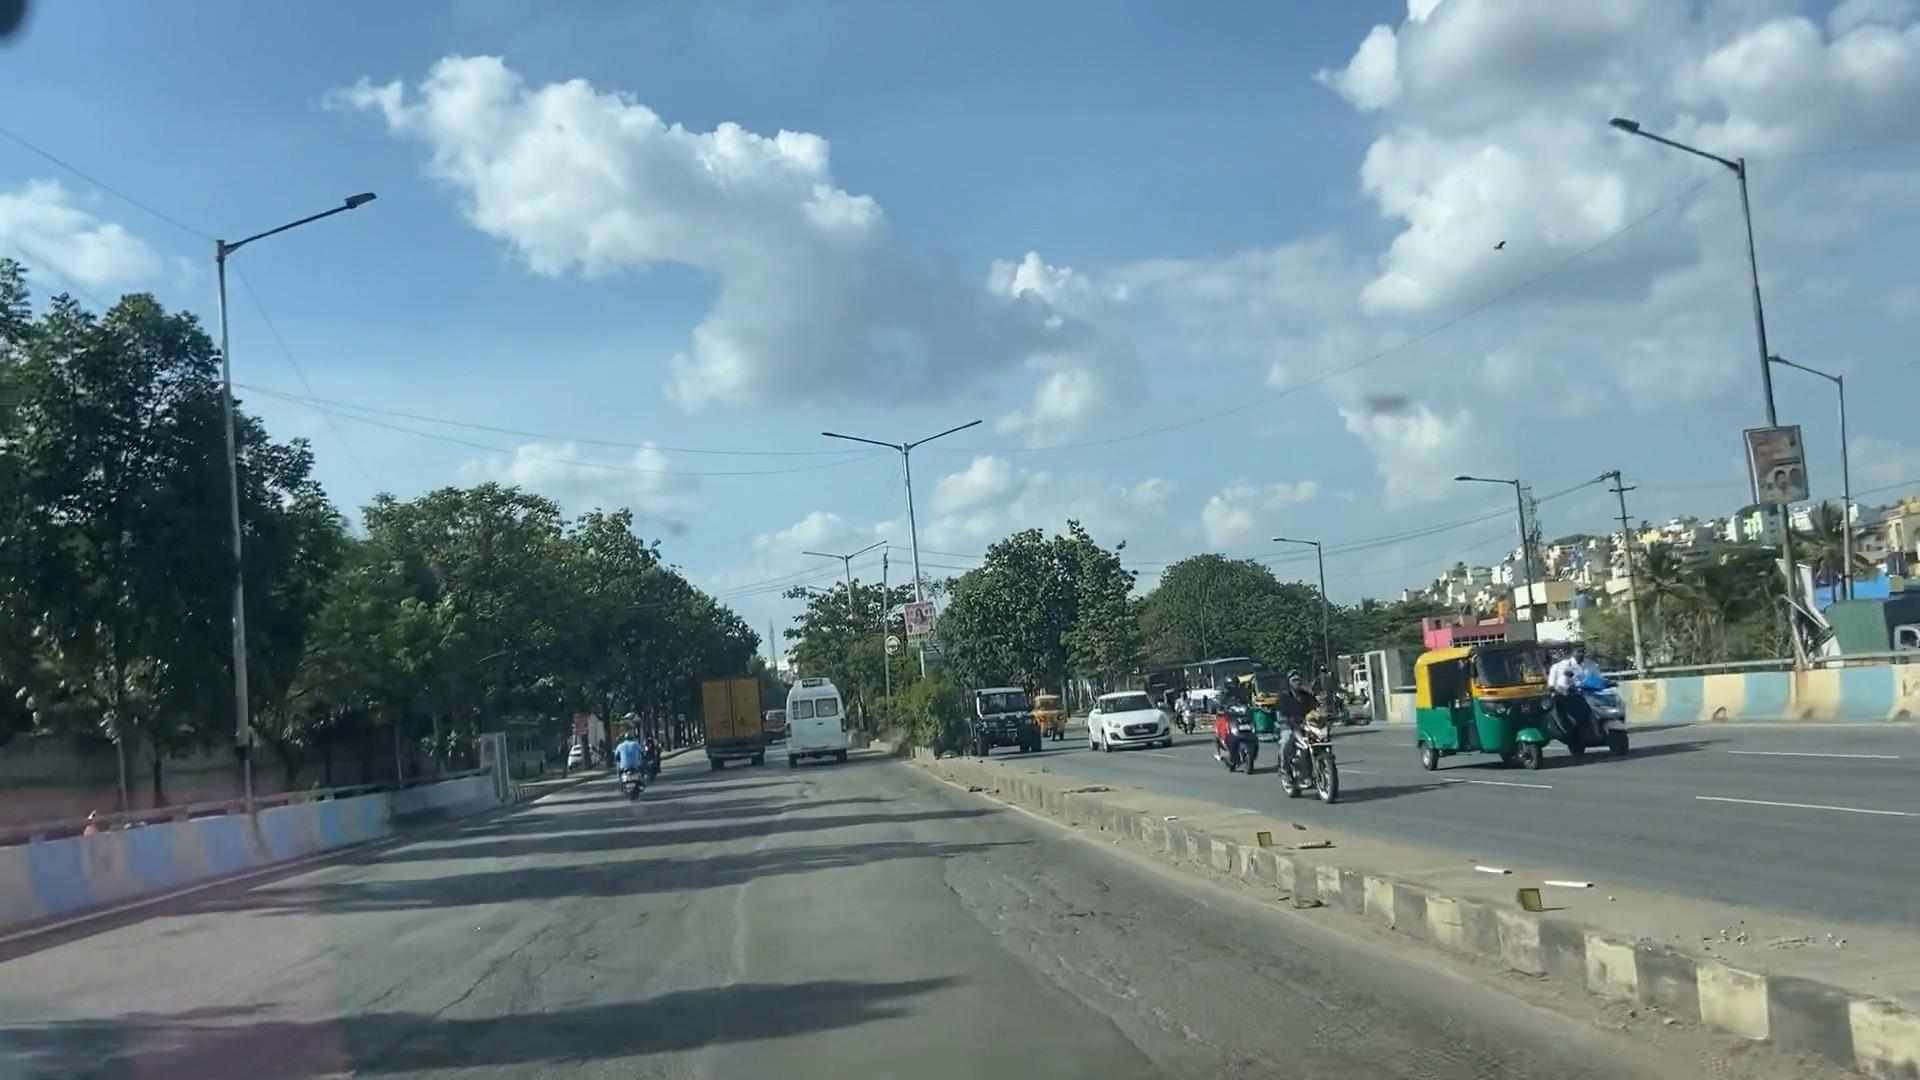HMV: (687, 671, 776, 777), (771, 667, 843, 754)
LMV: (620, 726, 647, 794)
RoadDamages: (907, 874, 1274, 1080), (499, 894, 730, 1080)
